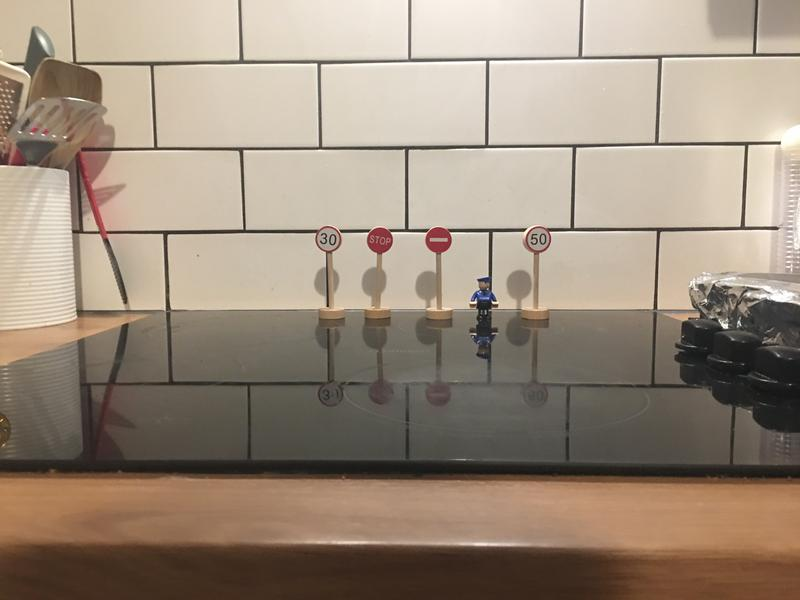Traffic_Sign_30: (316, 224, 341, 253)
Traffic_Sign_50: (527, 225, 551, 253)
Traffic_Sign_No_Entry: (426, 226, 452, 254)
Traffic_Sign_Stop: (368, 227, 393, 254)
person: (469, 276, 501, 324)
